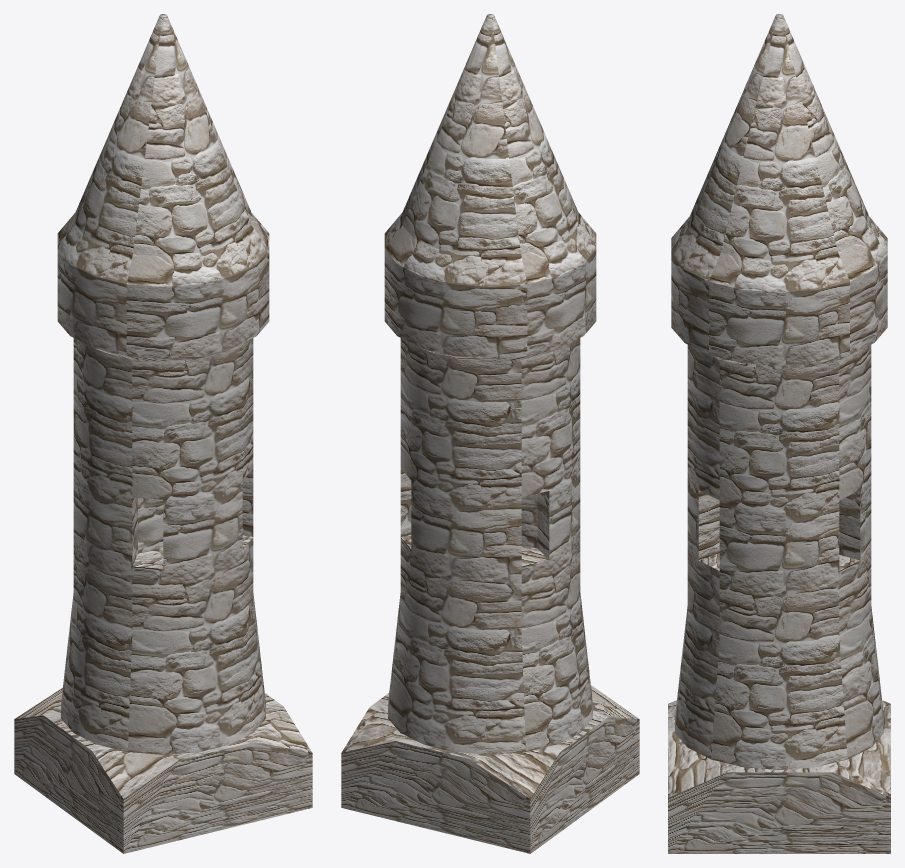
The model's file is wall4.FBX.
3 views of the same model, side by side, from view 1: azimuth 30°, elevation 25°; view 2: azimuth 150°, elevation 25°; view 3: azimuth 270°, elevation 25° (orthographic). The views are drawn at different scales.
Visible parts, largest first — view 1: Cylinder004; view 2: Cylinder004; view 3: Cylinder004.
Part boxes in pixels (left/top/right/bottom): Cylinder004: left=14, top=14, right=312, bottom=853; Cylinder004: left=341, top=14, right=639, bottom=853; Cylinder004: left=668, top=14, right=890, bottom=853.
Size of the model in its own units: 10 by 39.18 by 10.
